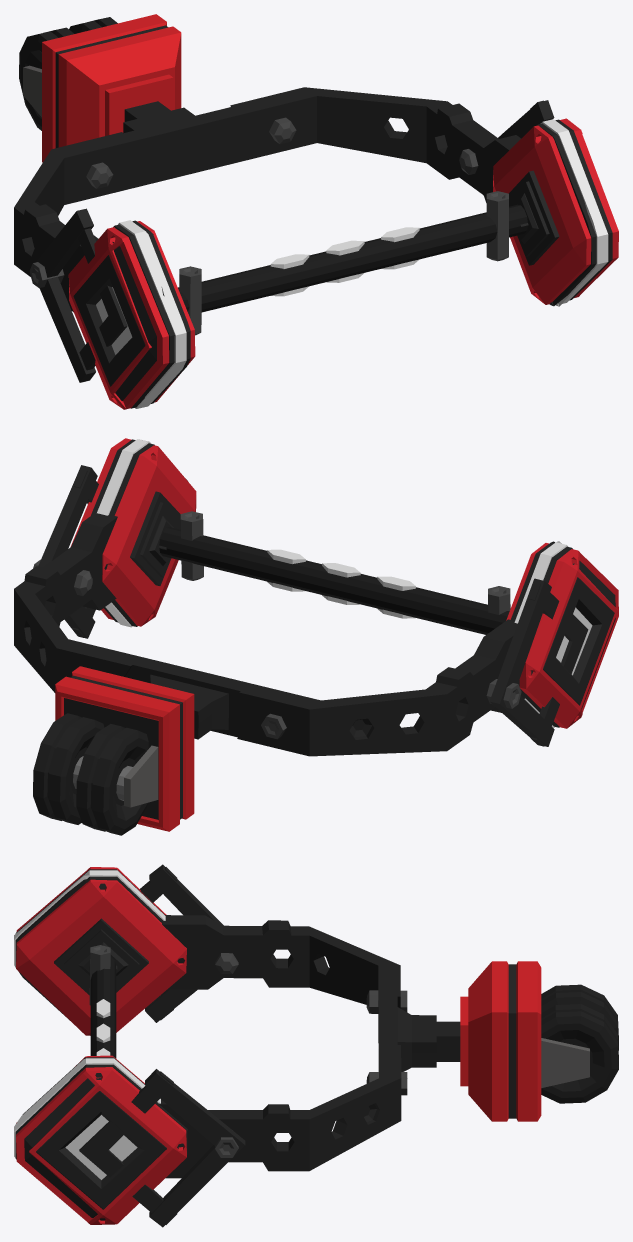
Rendered from DSZiplineTrolley.fbx.
The picture shows the model from 3 angles, top to bottom: view 1: azimuth 30°, elevation 25°; view 2: azimuth 150°, elevation 25°; view 3: azimuth 270°, elevation 25°; orthographic projection. The views are drawn at different scales.
Visible parts, largest first — view 1: DSZiplineTrolleyModel; view 2: DSZiplineTrolleyModel; view 3: DSZiplineTrolleyModel.
Boxes of the visible parts, x1,y1,x2,y2 form: DSZiplineTrolleyModel: [14, 14, 618, 409]; DSZiplineTrolleyModel: [14, 438, 618, 835]; DSZiplineTrolleyModel: [14, 864, 618, 1227].
Size of the model in its own units: 0.5521 by 0.1922 by 0.6621.
